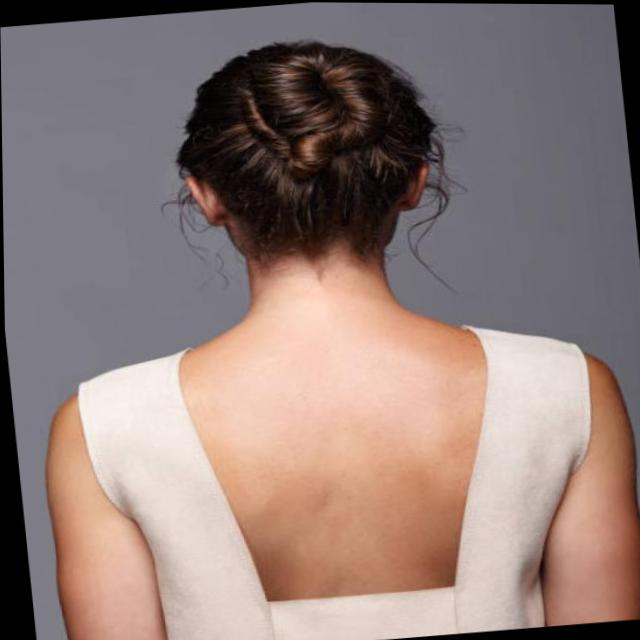no helmet: (156, 22, 455, 296)
